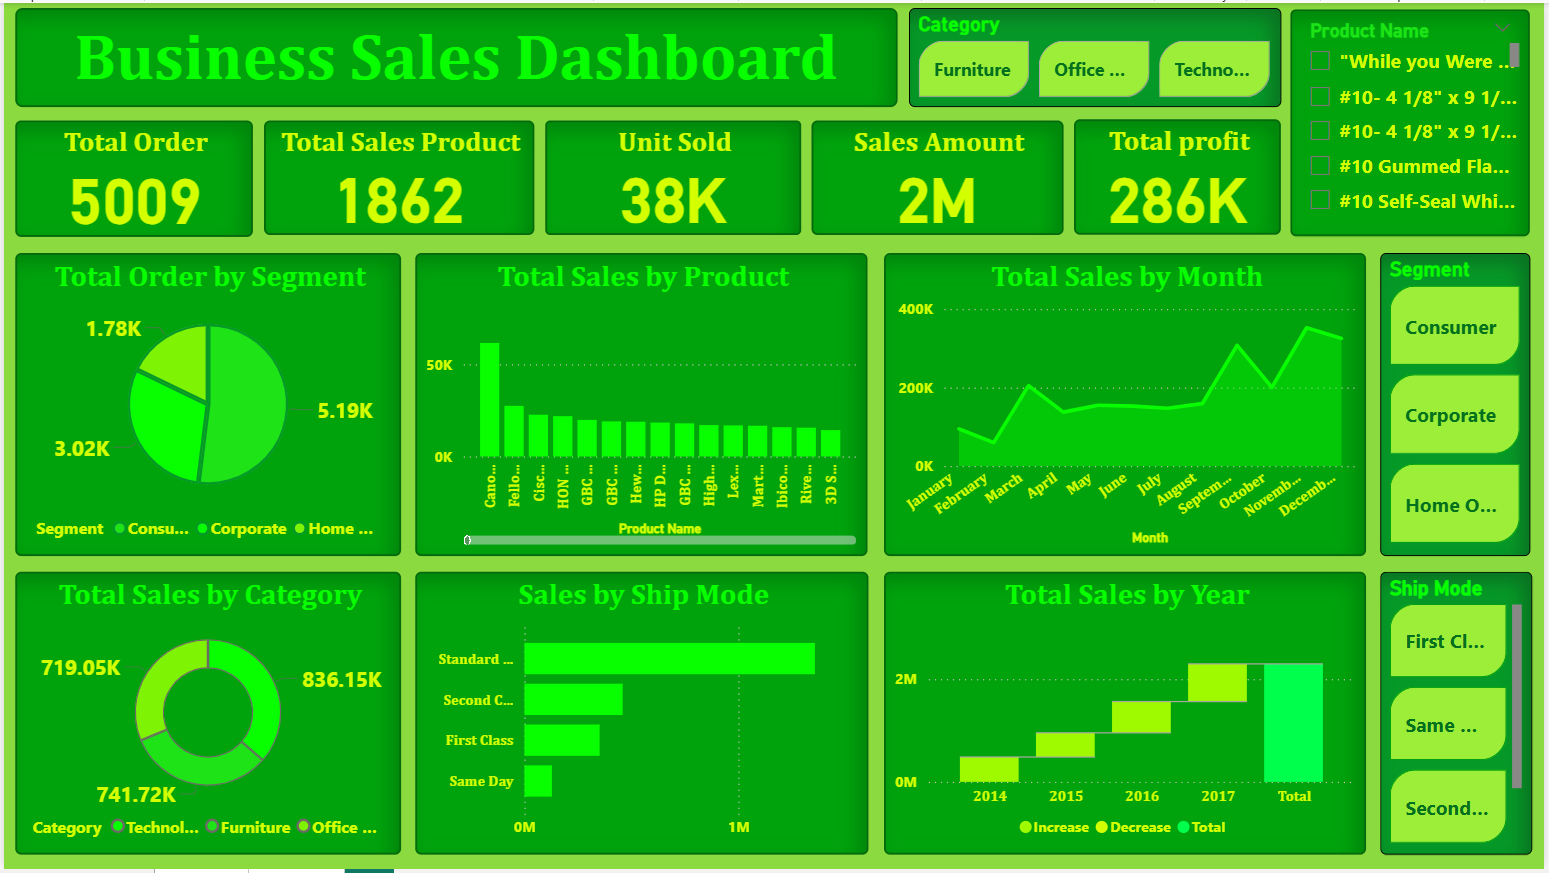

The dashboard page shown, as its layout file describes it:
{"tool":"powerbi","page":{"name":"Page 1","canvas":[1280,720],"ordinal":0},"visuals":[{"type":"card","title":"Total Order","fields":{"Values":["Count(Sample - Superstore.Order ID)"]},"box":[9.3,97.7,197.7,96.5],"z":0},{"type":"card","title":"Total Sales Product","fields":{"Values":["Count(Sample - Superstore.Product ID)"]},"box":[216.3,97.7,224.4,95.3],"z":1000},{"type":"card","title":"Unit Sold","fields":{"Values":["Sum(Sample - Superstore.Quantity)"]},"box":[450,97.7,212.8,95.3],"z":2000},{"type":"card","title":"Total profit","fields":{"Values":["Sum(Sample - Superstore.Profit)"]},"box":[889.2,97.2,172.1,96.1],"z":3000},{"type":"card","title":"Sales Amount","fields":{"Values":["Sum(Sample - Superstore.Sales)"]},"box":[670.9,97.7,209.3,95.3],"z":4000},{"type":"pieChart","title":"Total Order by Segment","fields":{"Category":["Sample - Superstore.Segment"],"Y":["CountNonNull(Sample - Superstore.Order ID)"]},"box":[9.3,208.1,320.9,252.3],"z":5000},{"type":"textbox","box":[9.3,4.7,733.7,82.6],"z":6000},{"type":"columnChart","title":"Total Sales by Product","fields":{"Category":["Sample - Superstore.Product Name"],"Y":["Sum(Sample - Superstore.Sales)"]},"box":[342.2,207.7,375.8,252.2],"z":7000},{"type":"areaChart","title":"Total Sales by Month","fields":{"Category":["Sample - Superstore.Order Date.Variation.Date Hierarchy.Month"],"Y":["Sum(Sample - Superstore.Sales)"]},"box":[731.3,207.7,401.1,252.2],"z":8000},{"type":"donutChart","title":"Total Sales by Category","fields":{"Category":["Sample - Superstore.Category"],"Y":["Sum(Sample - Superstore.Sales)"]},"box":[9.3,473.3,320.9,234.9],"z":9000},{"type":"waterfallChart","title":"Total Sales by Year","fields":{"Category":["Sample - Superstore.Order Date.Variation.Date Hierarchy.Year"],"Y":["Sum(Sample - Superstore.Sales)"]},"box":[731.4,473.3,401.2,234.9],"z":10000},{"type":"slicer","fields":{"Values":["Sample - Superstore.Product Name"]},"box":[1069.9,4.8,199.3,188.5],"z":11000},{"type":"advancedSlicerVisual","fields":{"Values":["Sample - Superstore.Category"]},"box":[751.9,4.2,309.4,82.4],"z":12000},{"type":"barChart","title":"Sales by Ship Mode","fields":{"Category":["Sample - Superstore.Ship Mode"],"Y":["Sum(Sample - Superstore.Sales)"]},"box":[341.9,473.3,376.7,234.9],"z":13000},{"type":"advancedSlicerVisual","fields":{"Values":["Sample - Superstore.Segment"]},"box":[1144.3,207.7,124.9,252.2],"z":15000},{"type":"advancedSlicerVisual","fields":{"Values":["Sample - Superstore.Ship Mode"]},"box":[1144.3,473.1,126.1,235.3],"z":16000}]}

Visuals, with their boxes in screenshot pixels (x1, y1, x2, y2), scaled from the page's 1280x720 canvas onto the 1549x873 screenshot:
"Total Order" card: rect(11, 118, 251, 235)
"Total Sales Product" card: rect(262, 118, 533, 234)
"Unit Sold" card: rect(545, 118, 802, 234)
"Total profit" card: rect(1076, 118, 1284, 234)
"Sales Amount" card: rect(812, 118, 1065, 234)
"Total Order by Segment" pieChart: rect(11, 252, 400, 558)
textbox: rect(11, 6, 899, 106)
"Total Sales by Product" columnChart: rect(414, 252, 869, 558)
"Total Sales by Month" areaChart: rect(885, 252, 1370, 558)
"Total Sales by Category" donutChart: rect(11, 574, 400, 859)
"Total Sales by Year" waterfallChart: rect(885, 574, 1371, 859)
slicer - Sample - Superstore.Product Name: rect(1295, 6, 1536, 234)
advancedSlicerVisual - Sample - Superstore.Category: rect(910, 5, 1284, 105)
"Sales by Ship Mode" barChart: rect(414, 574, 870, 859)
advancedSlicerVisual - Sample - Superstore.Segment: rect(1385, 252, 1536, 558)
advancedSlicerVisual - Sample - Superstore.Ship Mode: rect(1385, 574, 1537, 859)
